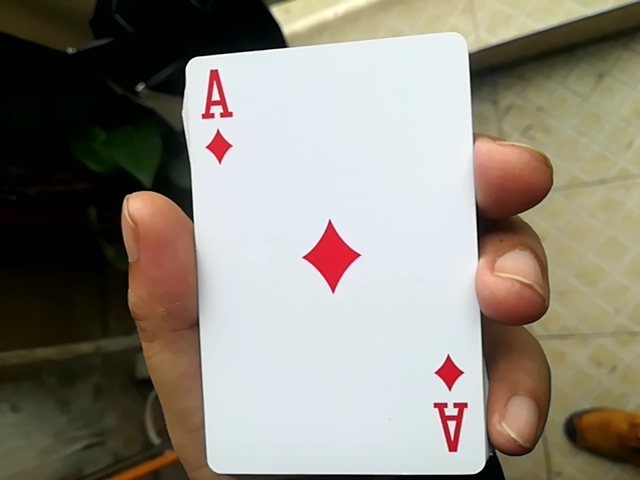fk a: (172, 21, 486, 470)
